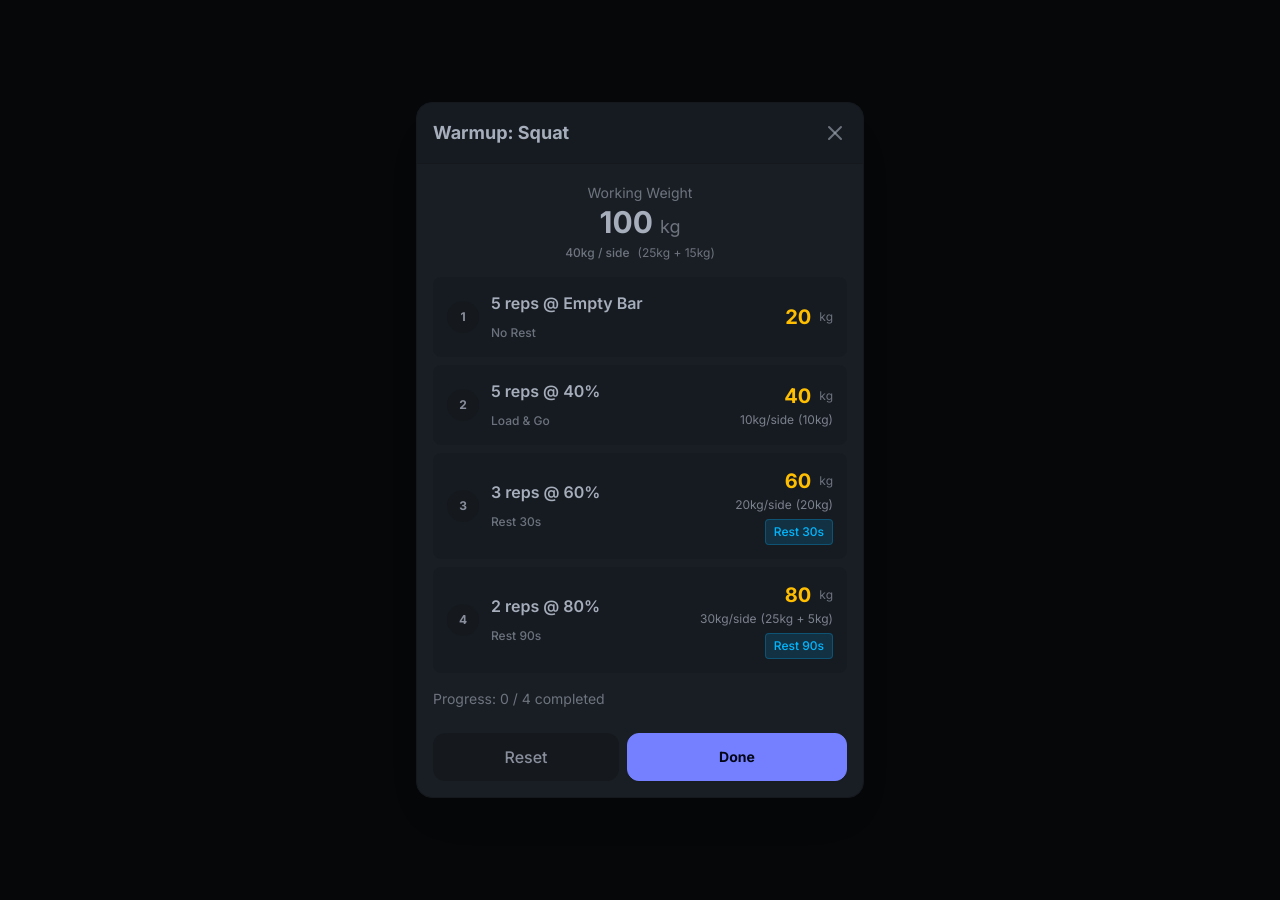
Test: WarmupCalculator › should isolate warmup state per session when sessionId is provided
Click the button "1 5 reps @ Empty Bar No Rest" at x=463, y=317, box [447,291,777,343]
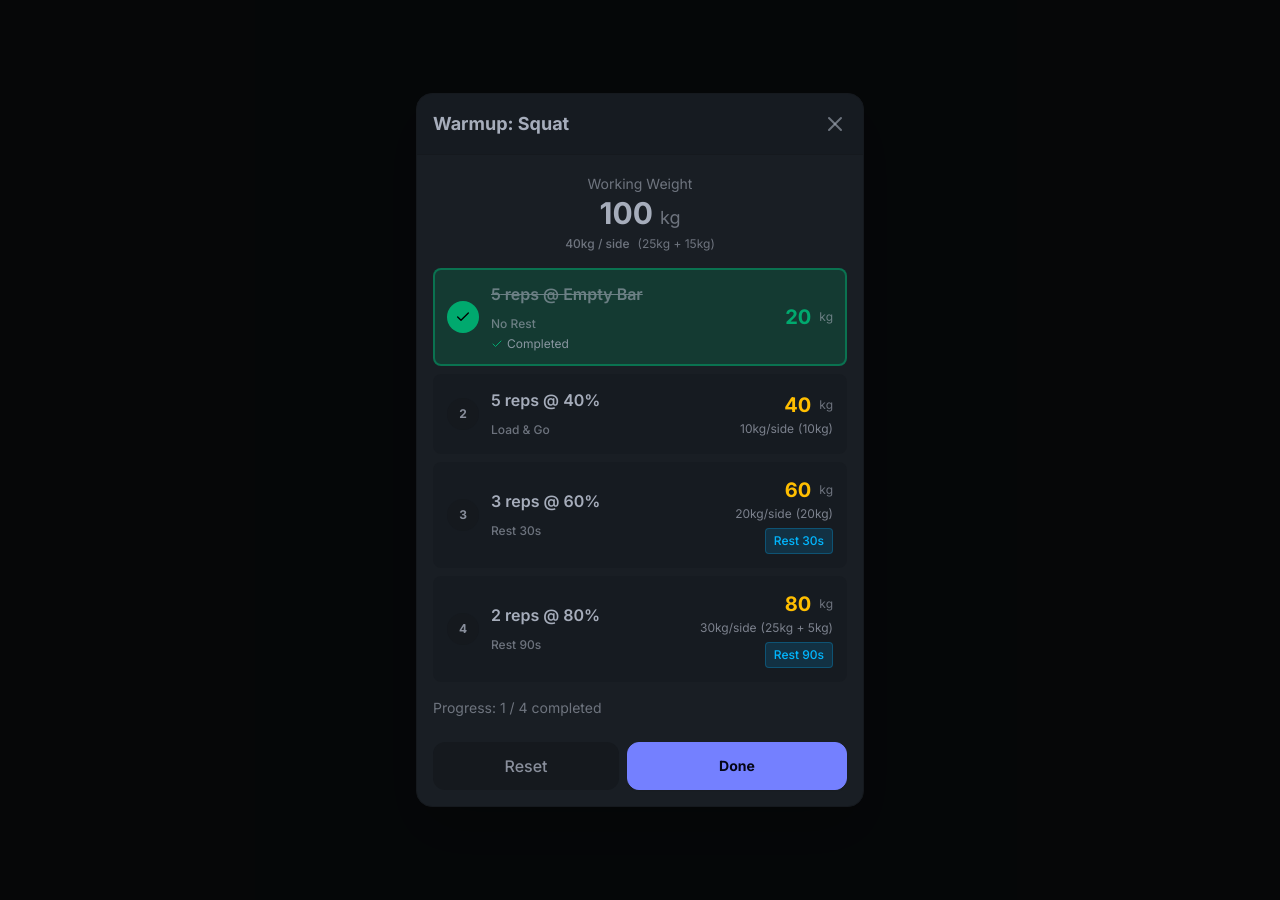
Result: the text "Completed" is shown at [507,336,569,352]
